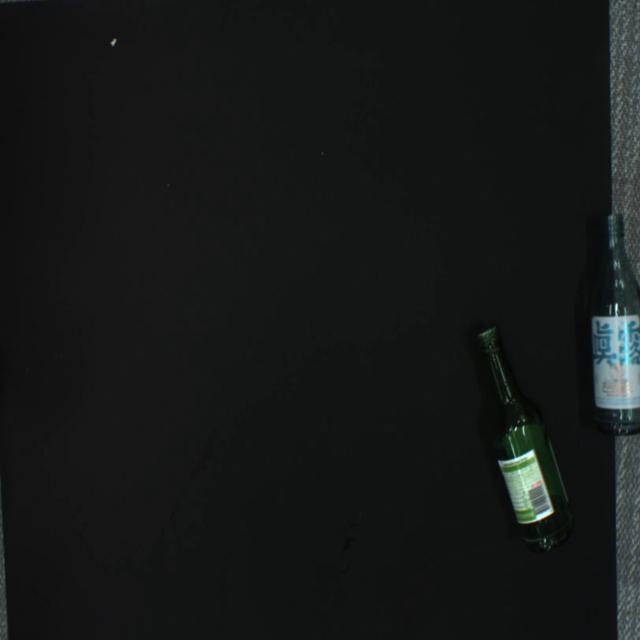soju-bottle: (474, 326, 572, 554), (589, 213, 640, 436)
